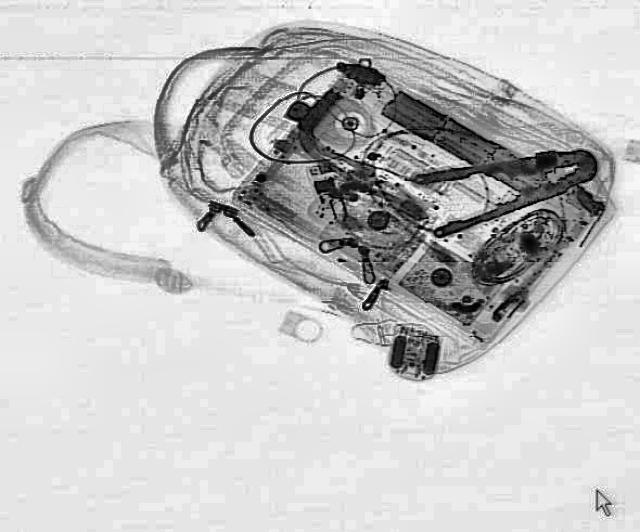Pliers: (402, 128, 608, 240)
